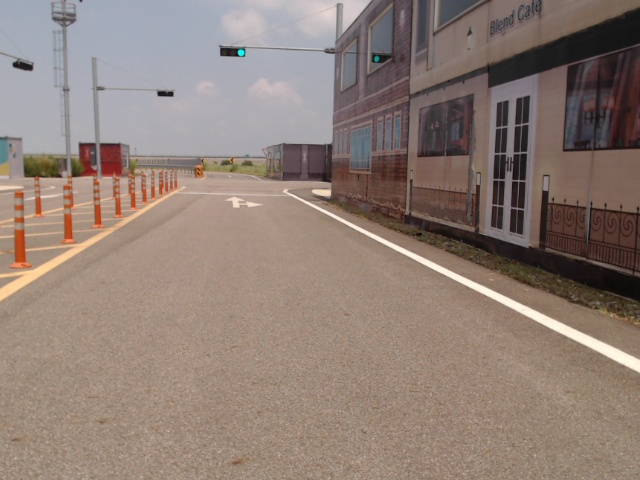green_3: (220, 48, 246, 57)
